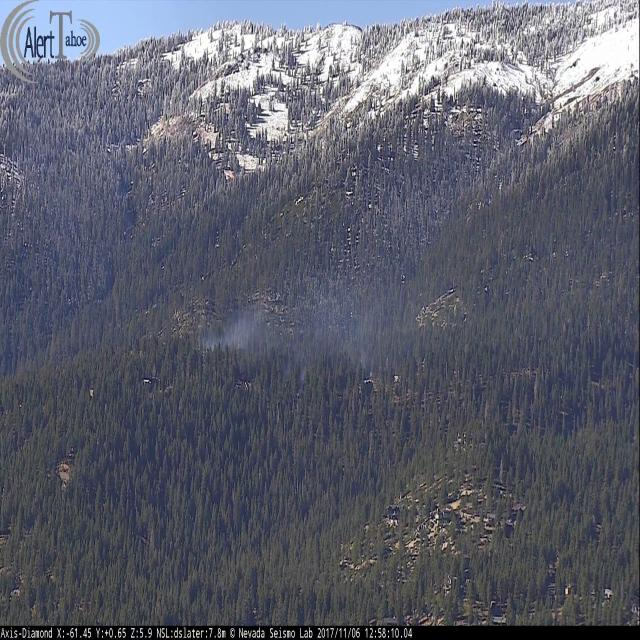smoke: (193, 108, 640, 386)
